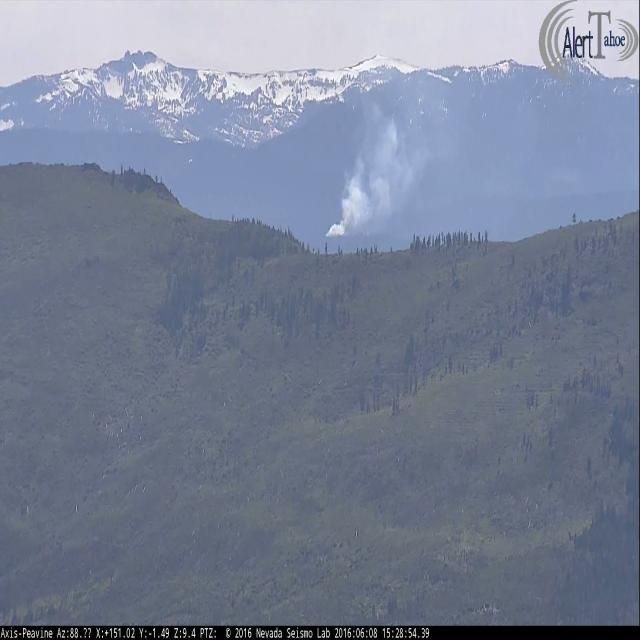smoke: (325, 107, 399, 239)
